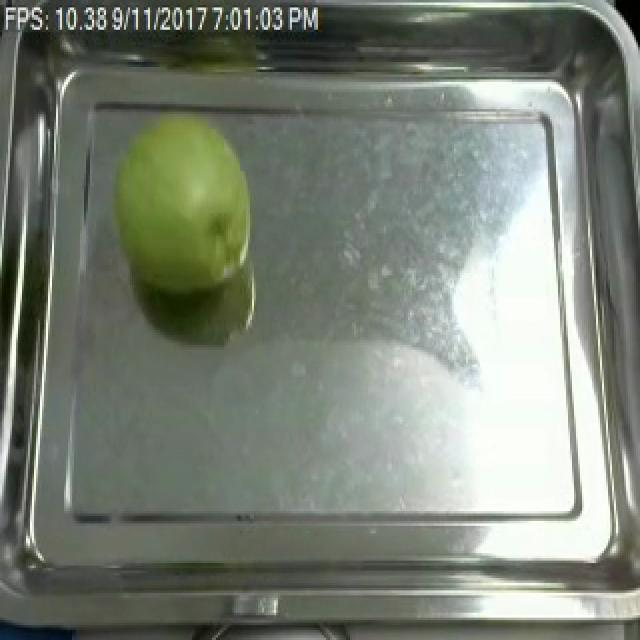Fruit: (72, 102, 264, 310)
